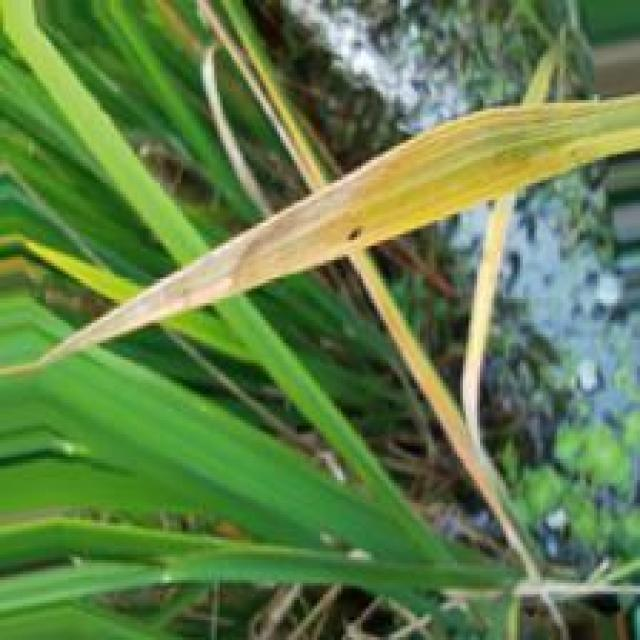Bacterial_Leaf_Blight: (72, 95, 640, 345)
